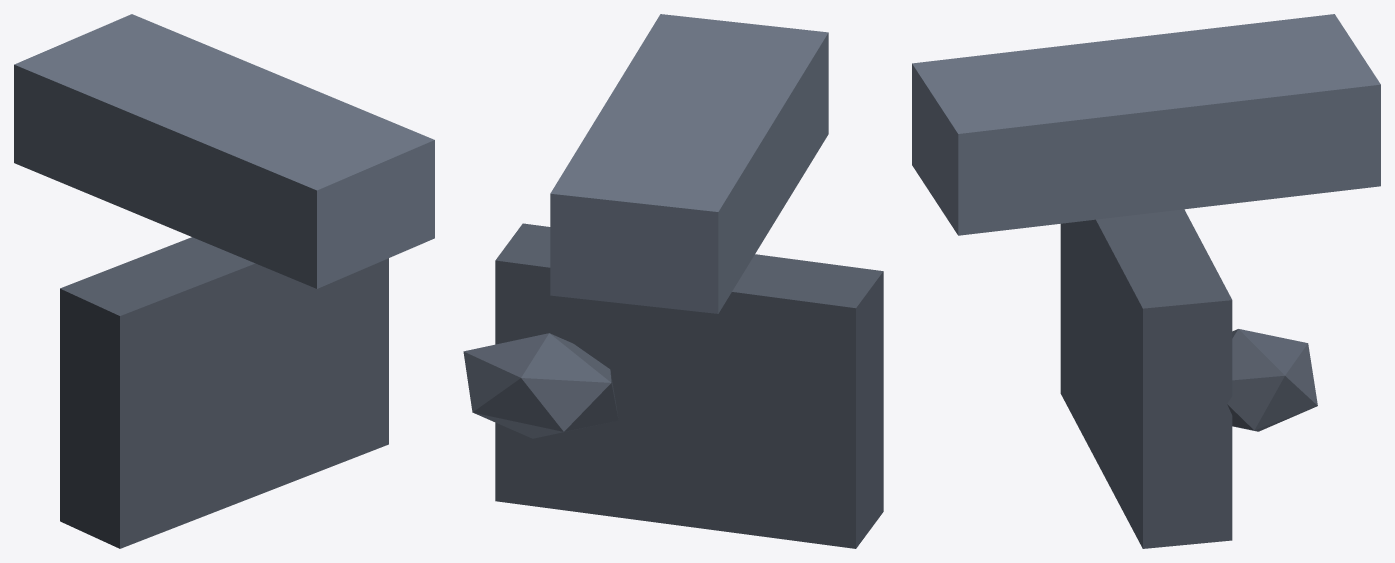
Rendered from EXTW_EastMarker_02.glb.
3 renders of one model, left to right at view 1: azimuth 30°, elevation 25°; view 2: azimuth 150°, elevation 25°; view 3: azimuth 270°, elevation 25°, orthographic. The views are drawn at different scales.
Visible parts, largest first — view 1: EXTW_EastMarker_02; view 2: EXTW_EastMarker_02; view 3: EXTW_EastMarker_02.
Part boxes in pixels (x1,y1,x2,y2): EXTW_EastMarker_02: (14,14,434,548); EXTW_EastMarker_02: (463,14,883,548); EXTW_EastMarker_02: (912,14,1380,548).
Size of the model in its own units: 0.7614 by 0.85 by 0.9195.
